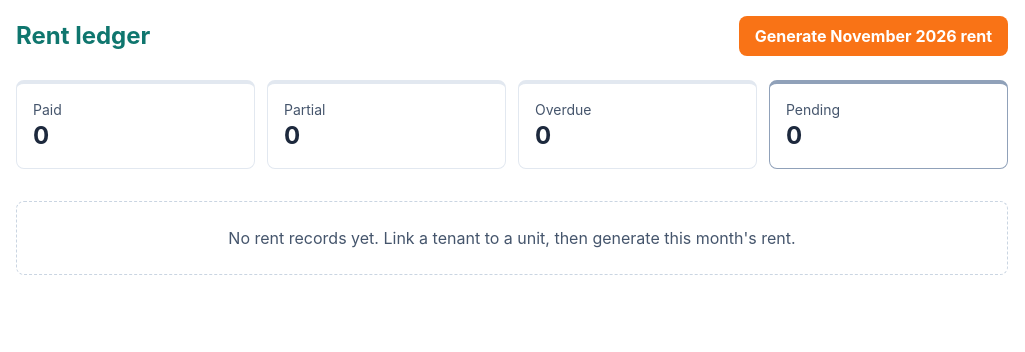
RentLedger page › generates rent and reports how many records were created
Click the button "Generate November 2026 rent".
click(873, 36)  # box [739,16,1008,56]
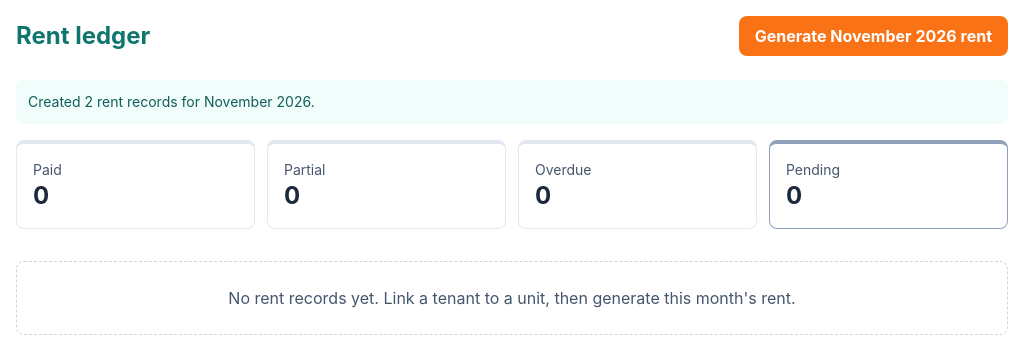
Expected: the message shows "Created 2 rent records", [28,93,315,110]
